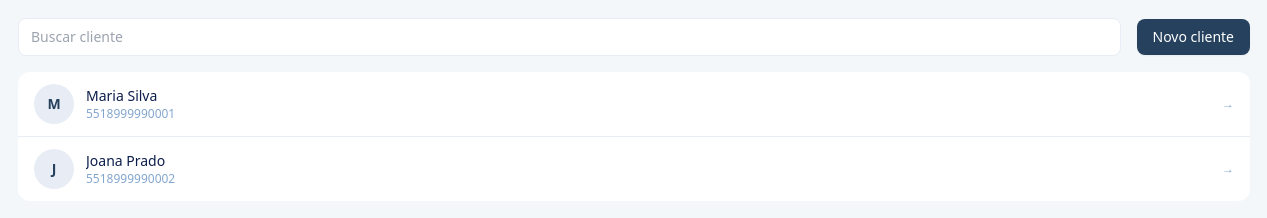
Scenario: ClientesPage — listagem e busca › busca filtra pela clientesService.buscar
The image size is (1267, 218).
Expected: the text "Maria Silva" is shown, [86, 86, 157, 105]
Type "joana" into the field with placeholder "Buscar cliente".
click(569, 37); type("joana")  # box [18, 18, 1120, 56]
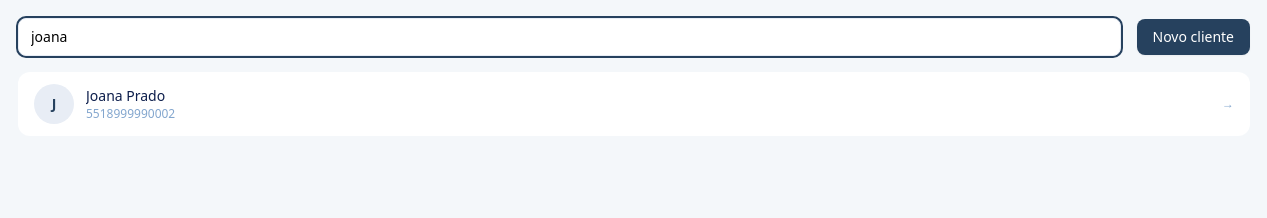
Expected: the text "Joana Prado" is shown, [86, 86, 165, 105]
Now the text "Maria Silva" is gone
